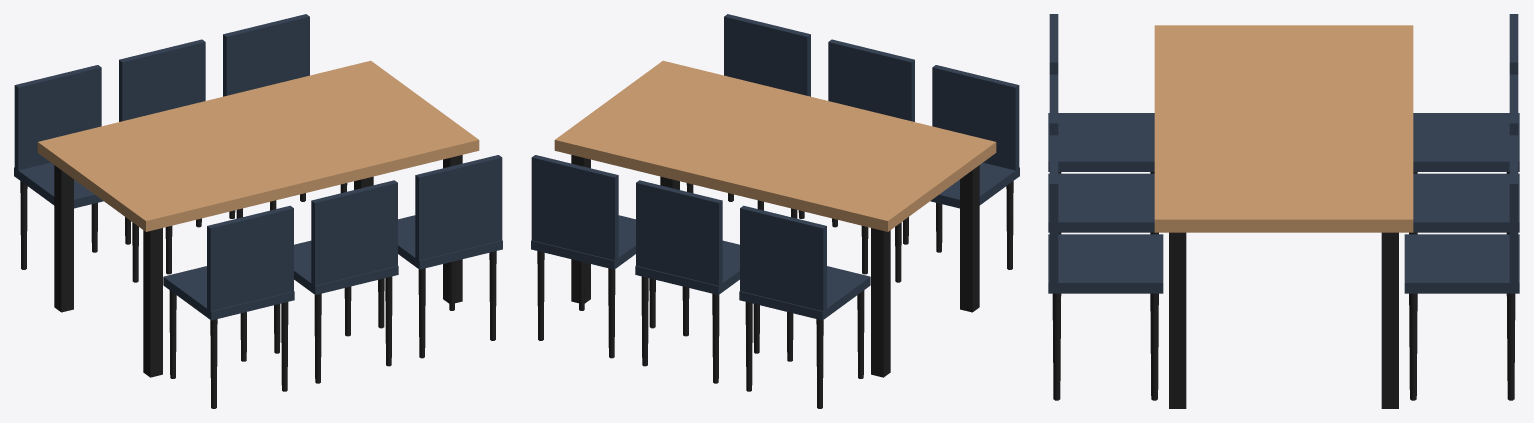
Rendered from dining_table_6chairs.glb.
3 renders of one model, left to right at view 1: azimuth 30°, elevation 25°; view 2: azimuth 150°, elevation 25°; view 3: azimuth 270°, elevation 25°, orthographic. The views are drawn at different scales.
Parts seen in each view (by area): view 1: dining_table_6chairs; view 2: dining_table_6chairs; view 3: dining_table_6chairs.
Part boxes in pixels (x1,y1,x2,y2): dining_table_6chairs: [14, 14, 502, 408]; dining_table_6chairs: [531, 14, 1019, 408]; dining_table_6chairs: [1048, 14, 1519, 408].
Size of the model in its own units: 1.6 by 0.84 by 1.64.
